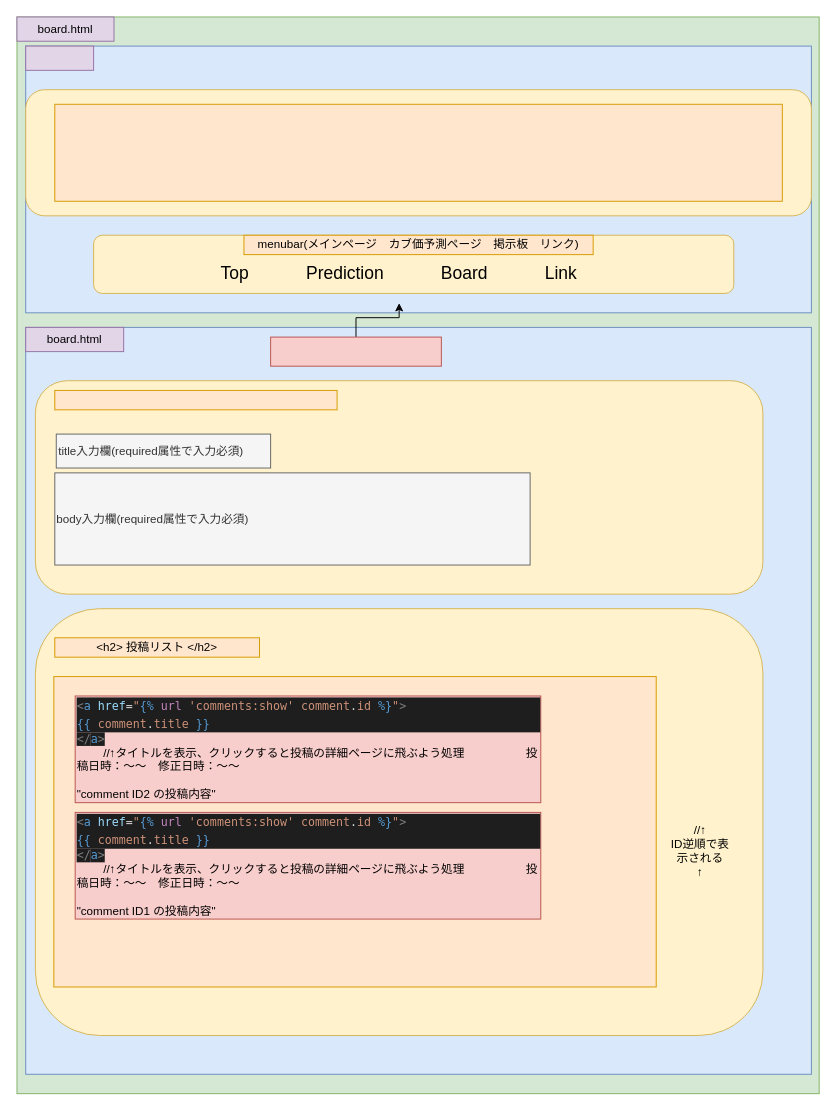
This 836x1111 diagram has some shape labels left out. The box of each missing label's shape, as (x1, y1, x2, y2) in pixels:
<h2> 投稿フォーム</h2>: (54, 389, 337, 410)
<header> <h1> <a href=index> <img> メインページへのリンク付きトップバナー </a> </h1> </header>: (54, 103, 782, 201)
base.html: (25, 45, 94, 70)
{{base.htmlを継承}}: (270, 336, 441, 366)
